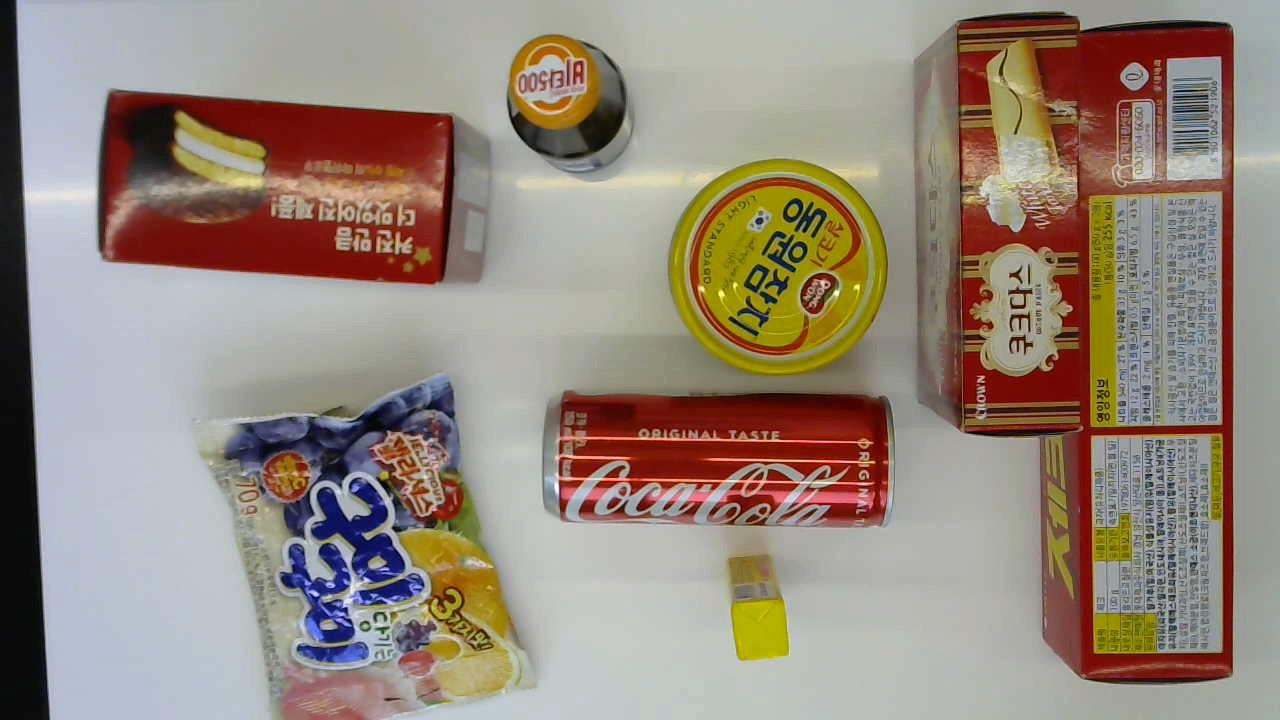chocopie: (94, 84, 494, 286)
coke: (538, 391, 898, 529)
couque_white: (910, 9, 1084, 433)
gumi_gumi: (186, 372, 539, 720)
juicyfresh: (716, 552, 792, 664)
tuna: (664, 156, 883, 376)
vita500: (506, 30, 635, 181)
zec: (1040, 15, 1230, 686)
